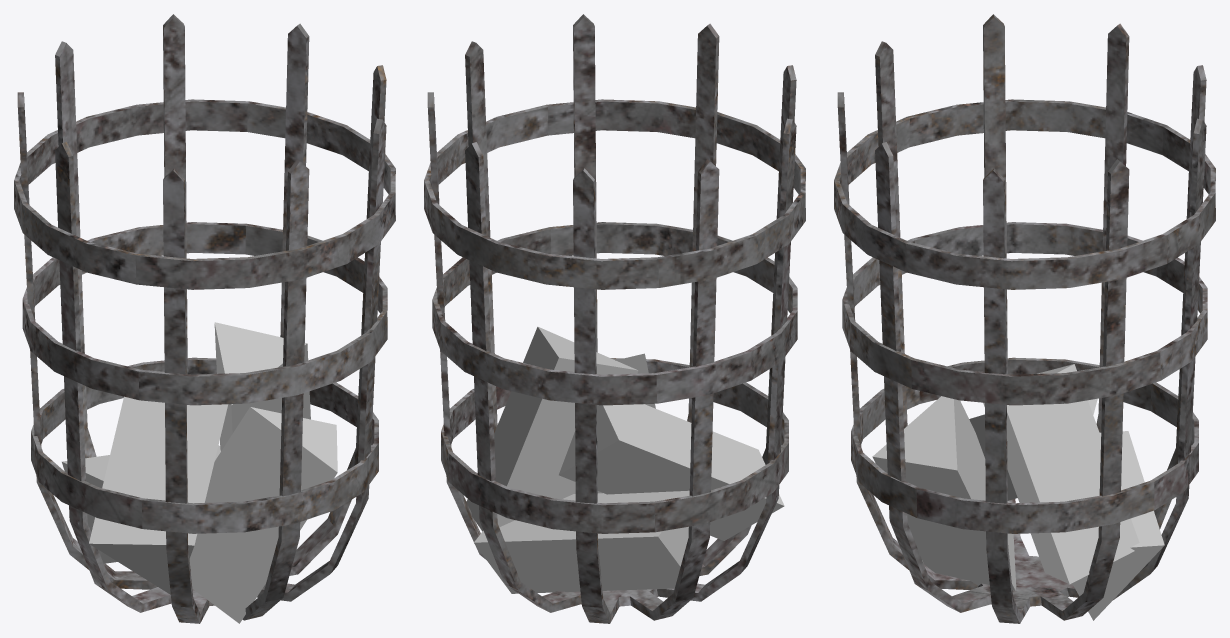
File: Brazier.fbx
3 renders of one model, left to right at view 1: azimuth 30°, elevation 25°; view 2: azimuth 150°, elevation 25°; view 3: azimuth 270°, elevation 25°, orthographic.
Parts seen in each view (by area): view 1: Жаровня; view 2: Жаровня; view 3: Жаровня.
Part boxes in pixels (x1,y1,x2,y2): Жаровня: (14, 14, 395, 623); Жаровня: (424, 14, 805, 623); Жаровня: (834, 14, 1215, 623).
Size of the model in its own units: 109 by 109 by 156.
